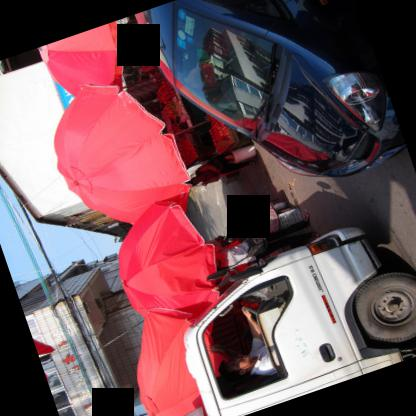handbag: (217, 236, 268, 269)
